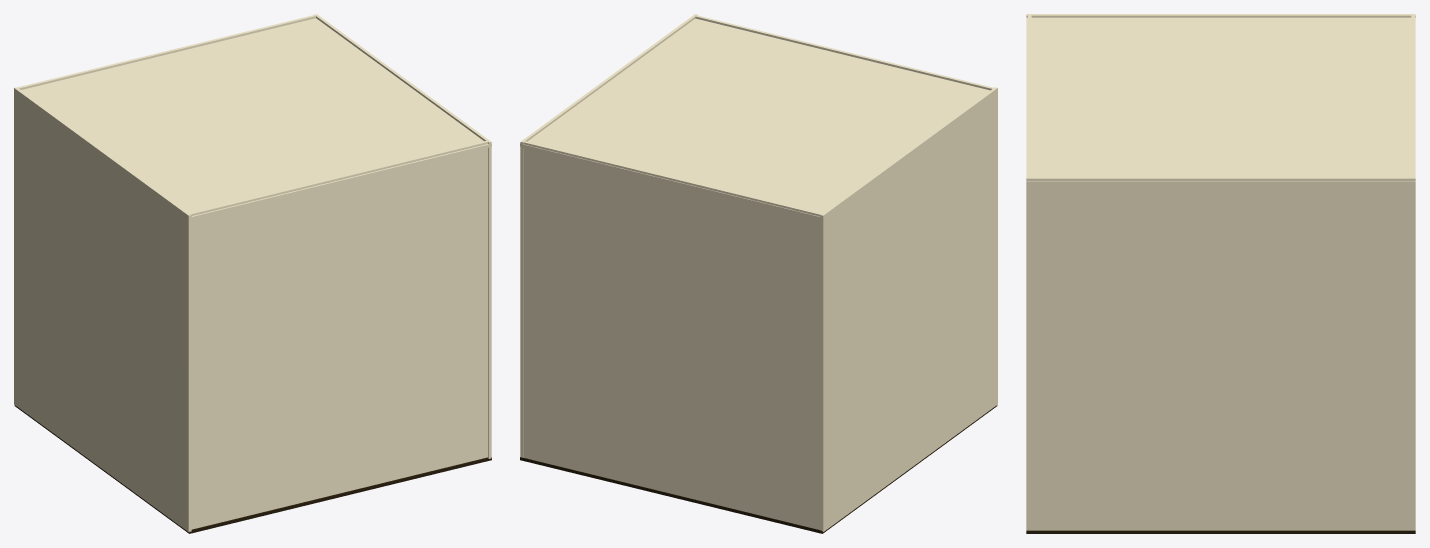
File: box room.fbx
3 renders of one model, left to right at view 1: azimuth 30°, elevation 25°; view 2: azimuth 150°, elevation 25°; view 3: azimuth 270°, elevation 25°, orthographic. The views are drawn at different scales.
Parts seen in each view (by area): view 1: floor.004, floor.001, floor.005, floor.002, floor, floor.003; view 2: floor.003, floor.001, floor.005, floor.002, floor, floor.004; view 3: floor.002, floor.005, floor, floor.001, floor.003, floor.004.
Part boxes in pixels (x1,y1,x2,y2): floor.004: [189, 140, 489, 529]; floor.001: [14, 87, 191, 531]; floor.005: [21, 18, 491, 219]; floor.002: [314, 14, 491, 458]; floor: [14, 405, 491, 533]; floor.003: [17, 14, 318, 89]; floor.003: [521, 140, 821, 529]; floor.001: [820, 87, 997, 531]; floor.005: [520, 18, 989, 219]; floor.002: [520, 14, 697, 457]; floor: [520, 405, 997, 533]; floor.004: [693, 14, 993, 90]; floor.002: [1026, 177, 1415, 530]; floor.005: [1026, 17, 1415, 184]; floor: [1026, 530, 1415, 533]; floor.001: [1026, 14, 1415, 17]; floor.003: [1411, 15, 1414, 178]; floor.004: [1028, 15, 1031, 178].
Bounding box in the file's own units: 1636 × 1642 × 1633.
